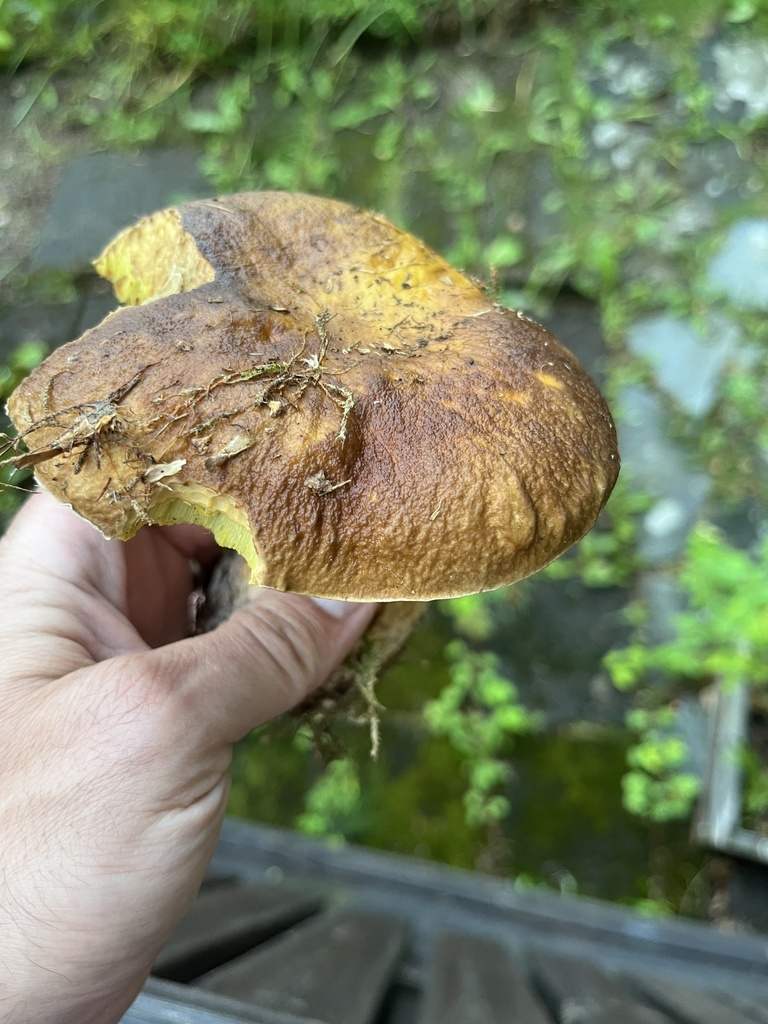Cap: (9, 193, 617, 598)
